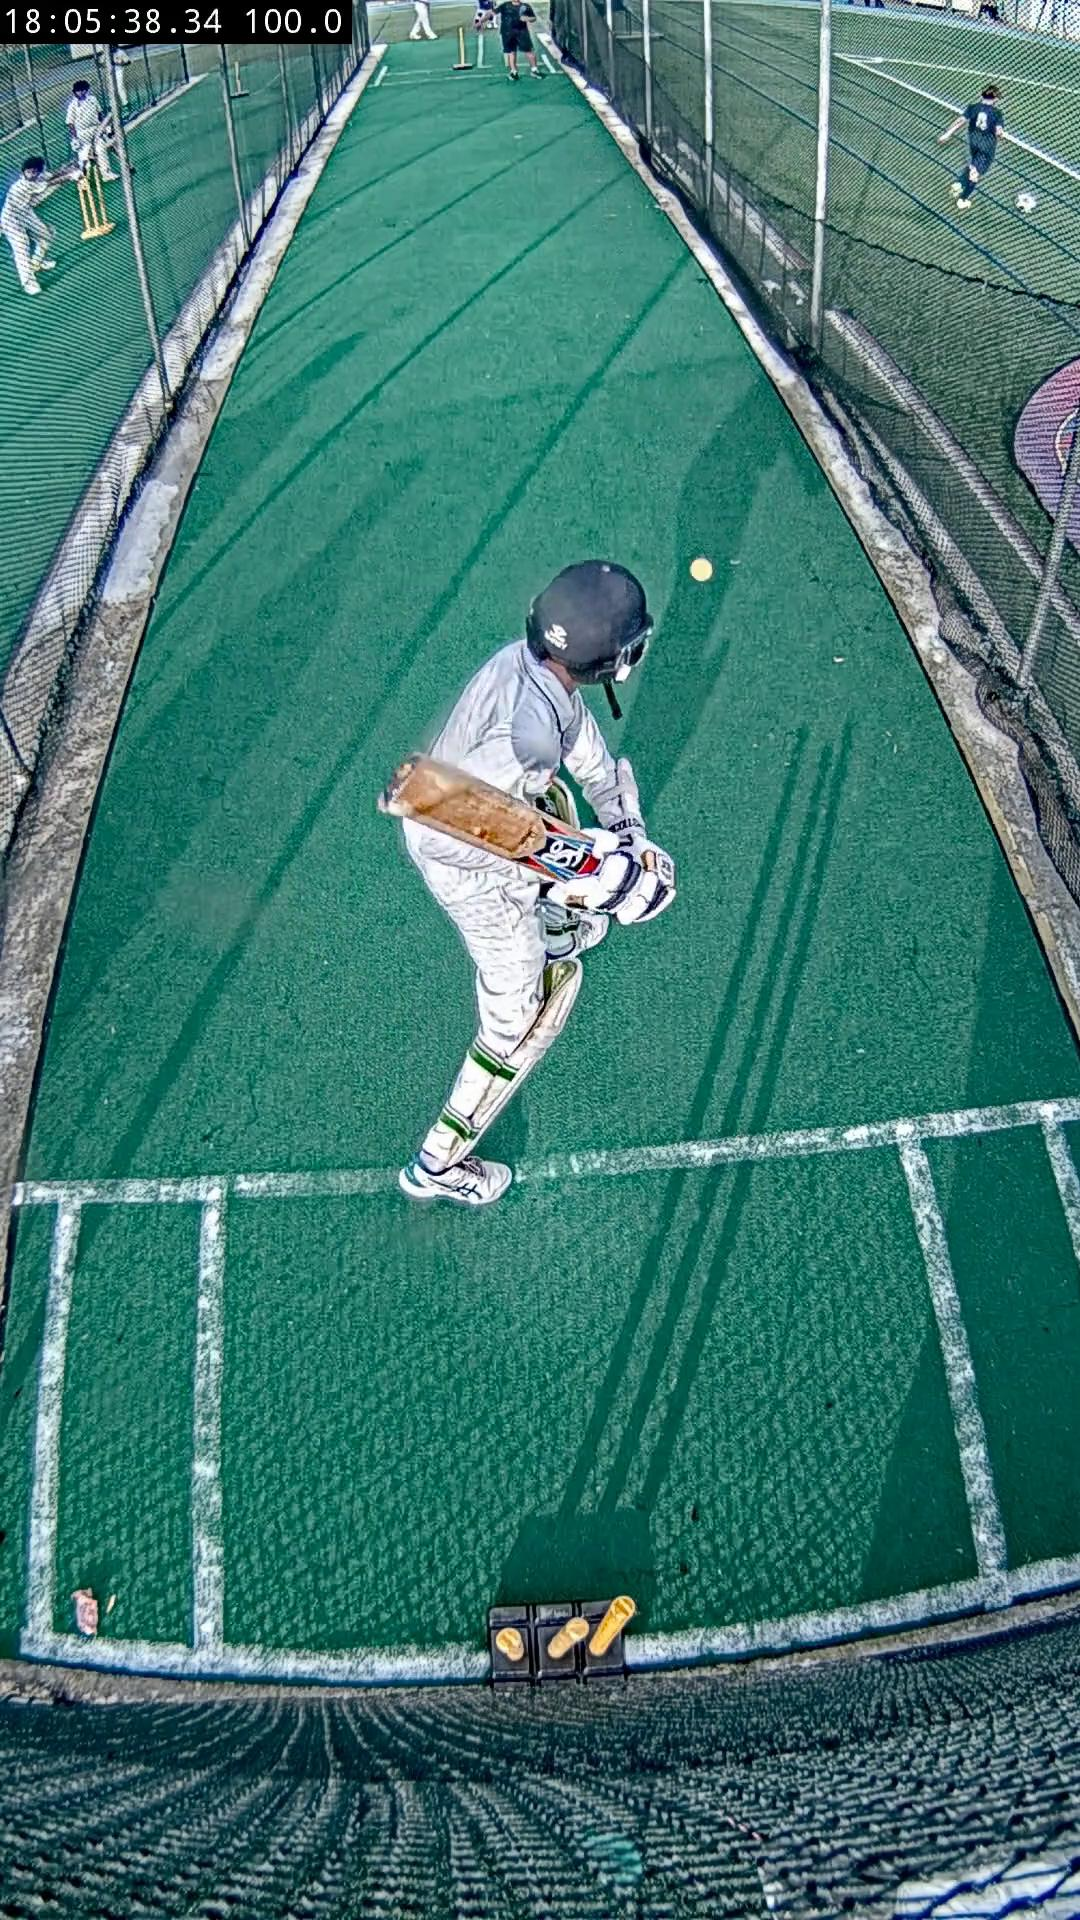ball: (690, 559, 712, 582)
bat: (378, 754, 604, 881)
gloves: (547, 840, 675, 924)
helmet: (525, 559, 653, 683)
pads: (472, 960, 582, 1134)
stumps: (488, 1594, 637, 1681)
